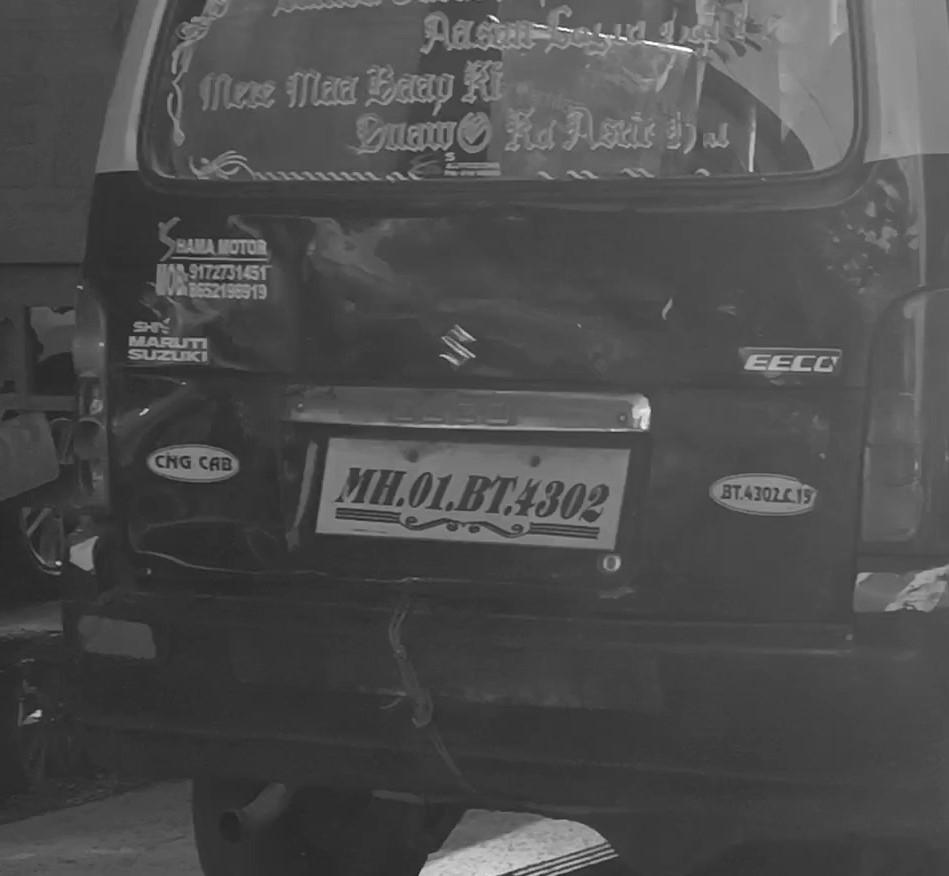number_plate: (321, 445, 626, 538)
